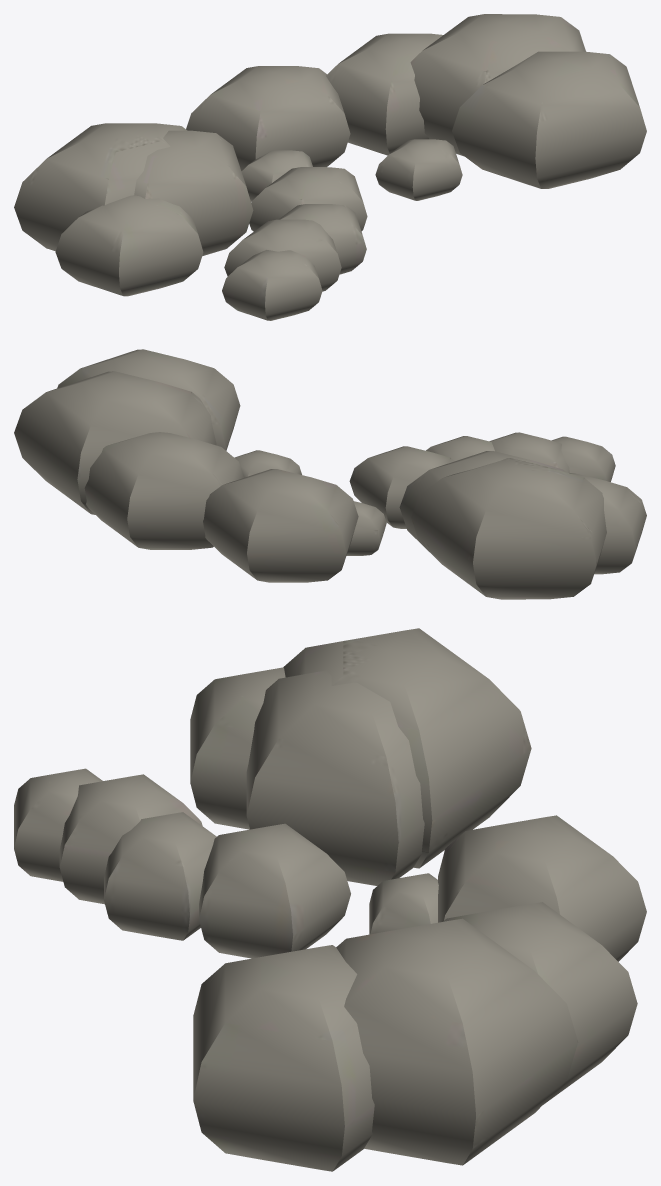
File: rubble.glb
The picture shows the model from 3 angles, top to bottom: view 1: azimuth 30°, elevation 25°; view 2: azimuth 150°, elevation 25°; view 3: azimuth 270°, elevation 25°; orthographic projection. The views are drawn at different scales.
Visible parts, largest first — view 1: chunk12, chunk2, chunk10, chunk0, chunk5, chunk9, chunk4, chunk6, chunk3, chunk7, chunk11, chunk13 (+1 smaller); view 2: chunk0, chunk5, chunk2, chunk4, chunk12, chunk3, chunk10, chunk9, chunk6, chunk11, chunk8, chunk7 (+1 smaller); view 3: chunk5, chunk12, chunk9, chunk0, chunk2, chunk3, chunk4, chunk13, chunk10, chunk11, chunk6, chunk8.
Part boxes in pixels (x1=…): chunk12: x1=452, y1=51, x2=646, y2=188; chunk2: x1=186, y1=66, x2=350, y2=170; chunk10: x1=55, y1=195, x2=203, y2=296; chunk0: x1=14, y1=123, x2=187, y2=251; chunk5: x1=410, y1=14, x2=585, y2=156; chunk9: x1=134, y1=130, x2=253, y2=255; chunk4: x1=326, y1=33, x2=442, y2=155; chunk6: x1=222, y1=250, x2=322, y2=320; chunk3: x1=249, y1=167, x2=367, y2=231; chunk7: x1=375, y1=139, x2=462, y2=200; chunk11: x1=224, y1=219, x2=341, y2=291; chunk13: x1=278, y1=204, x2=366, y2=274; chunk0: x1=411, y1=458, x2=606, y2=599; chunk5: x1=14, y1=371, x2=216, y2=514; chunk2: x1=203, y1=469, x2=358, y2=582; chunk4: x1=84, y1=432, x2=243, y2=549; chunk12: x1=57, y1=349, x2=240, y2=450; chunk3: x1=349, y1=446, x2=454, y2=528; chunk10: x1=569, y1=473, x2=646, y2=574; chunk9: x1=399, y1=451, x2=565, y2=541; chunk6: x1=551, y1=436, x2=615, y2=481; chunk11: x1=489, y1=432, x2=569, y2=472; chunk8: x1=346, y1=501, x2=386, y2=555; chunk7: x1=234, y1=450, x2=301, y2=477; chunk5: x1=336, y1=918, x2=577, y2=1165; chunk12: x1=193, y1=945, x2=374, y2=1171; chunk9: x1=246, y1=670, x2=424, y2=885; chunk0: x1=283, y1=628, x2=531, y2=868; chunk2: x1=438, y1=815, x2=646, y2=961; chunk3: x1=199, y1=823, x2=350, y2=958; chunk4: x1=443, y1=902, x2=637, y2=1104; chunk13: x1=104, y1=812, x2=216, y2=940; chunk10: x1=190, y1=667, x2=285, y2=829; chunk11: x1=59, y1=774, x2=202, y2=904; chunk6: x1=14, y1=768, x2=102, y2=881; chunk8: x1=369, y1=873, x2=438, y2=934.
Bounding box in the file's own units: 1.23 × 0.2581 × 0.7375.
1 material, 1 textured.
